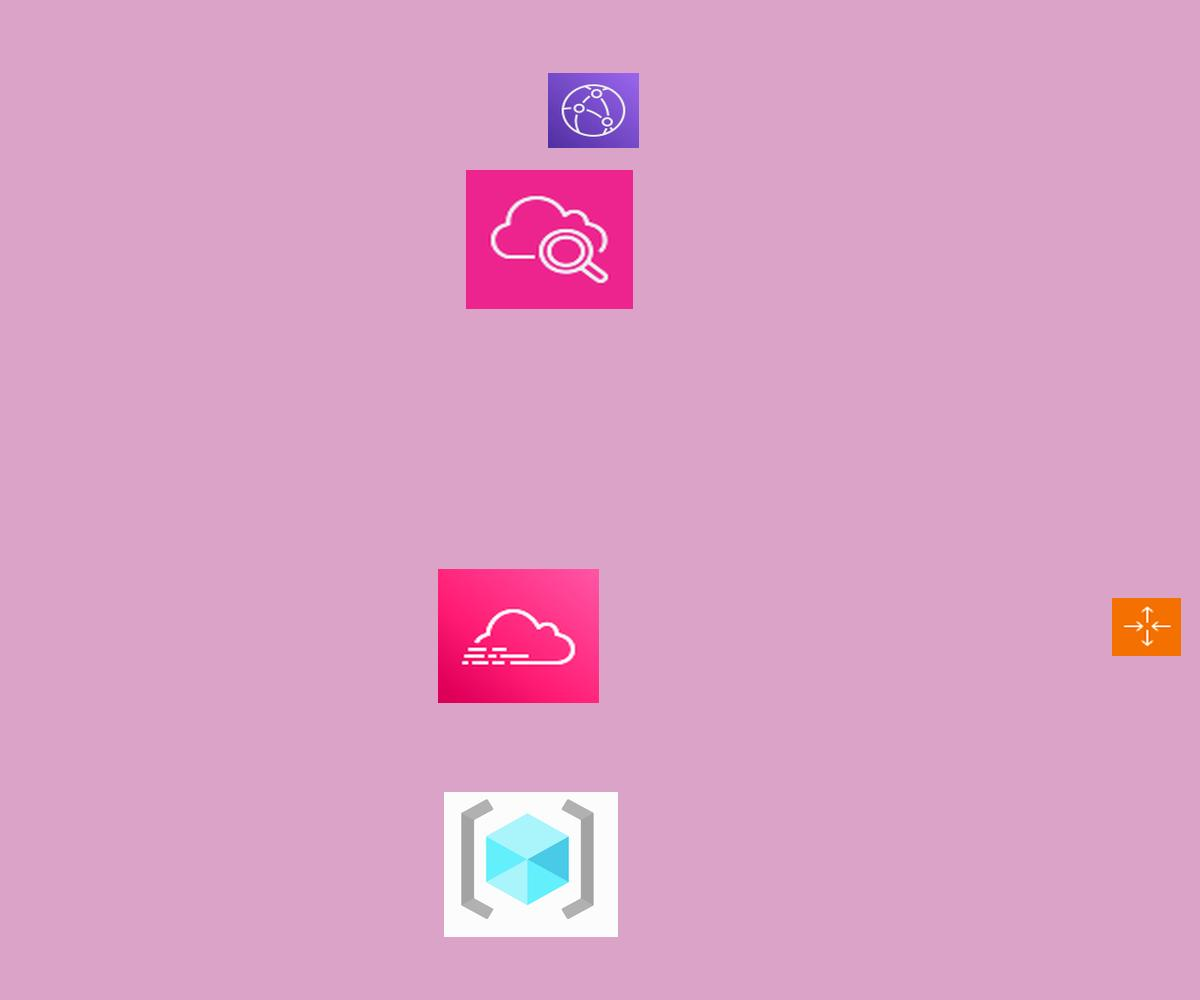AWS-CloudFront: (548, 73, 639, 148)
AWS-CloudTrail: (438, 569, 599, 703)
AWS-CloudWatch: (466, 170, 633, 309)
AWS-Scaling-group: (1112, 598, 1181, 656)
Azure_resource_group: (444, 792, 618, 937)
